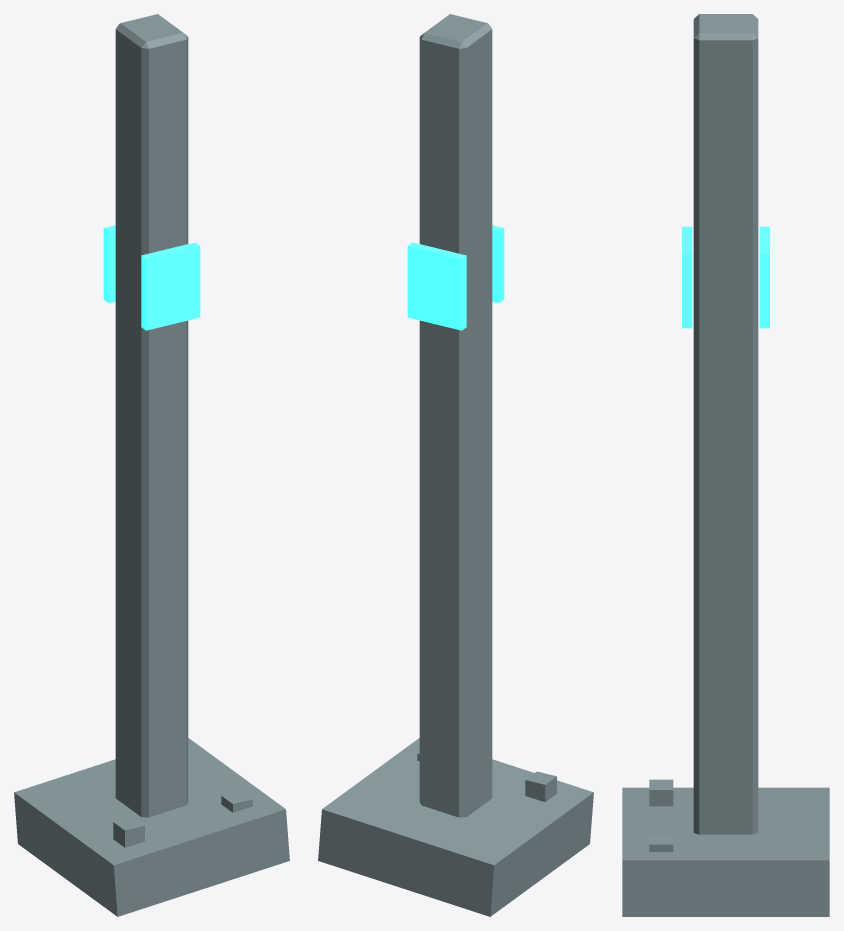
Rendered from RoadPlan_RampParapet_2L_Rise8p4_L110_Upright_96m_1.glb.
The picture shows the model from 3 angles, left to right: view 1: azimuth 30°, elevation 25°; view 2: azimuth 150°, elevation 25°; view 3: azimuth 270°, elevation 25°; orthographic projection. The views are drawn at different scales.
Visible parts, largest first — view 1: RoadPlan_RampParapet_2L_Rise8p4_L110_Upright_96m_1; view 2: RoadPlan_RampParapet_2L_Rise8p4_L110_Upright_96m_1; view 3: RoadPlan_RampParapet_2L_Rise8p4_L110_Upright_96m_1.
Part boxes in pixels (bbox=[...]): RoadPlan_RampParapet_2L_Rise8p4_L110_Upright_96m_1: bbox=[14, 14, 289, 916]; RoadPlan_RampParapet_2L_Rise8p4_L110_Upright_96m_1: bbox=[318, 14, 593, 916]; RoadPlan_RampParapet_2L_Rise8p4_L110_Upright_96m_1: bbox=[622, 14, 829, 916].
Bounding box in the file's own units: 0.2447 × 1.1 × 0.24.
